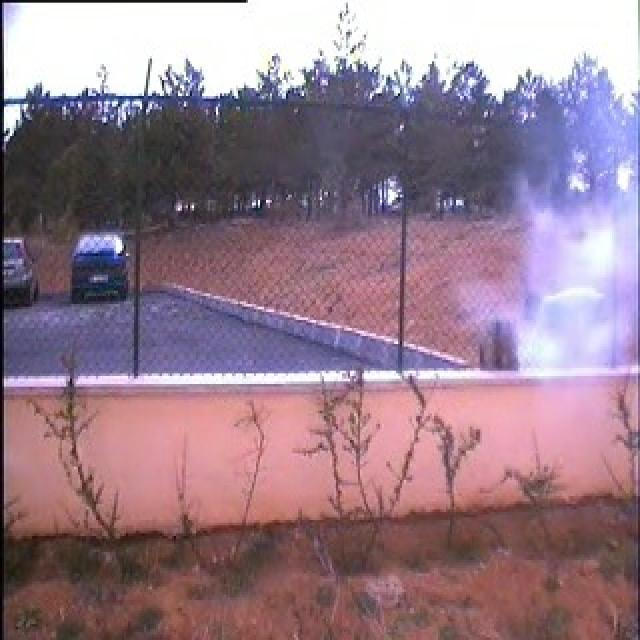Smoke: (461, 174, 640, 370)
